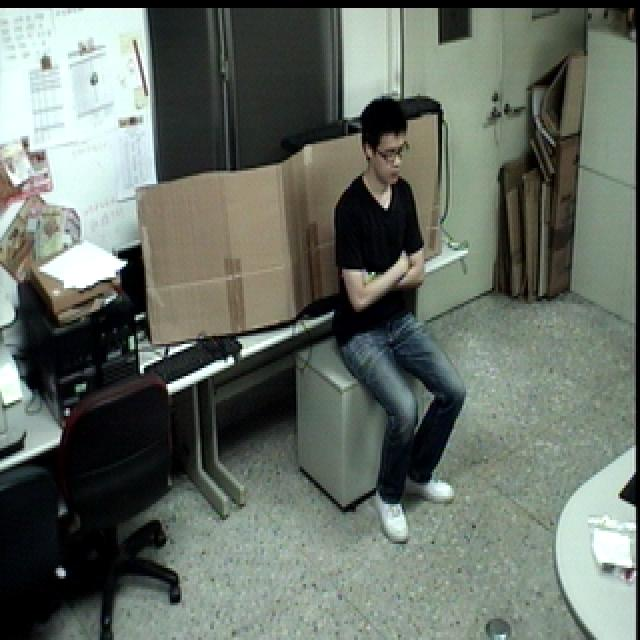sit: (331, 90, 468, 549)
